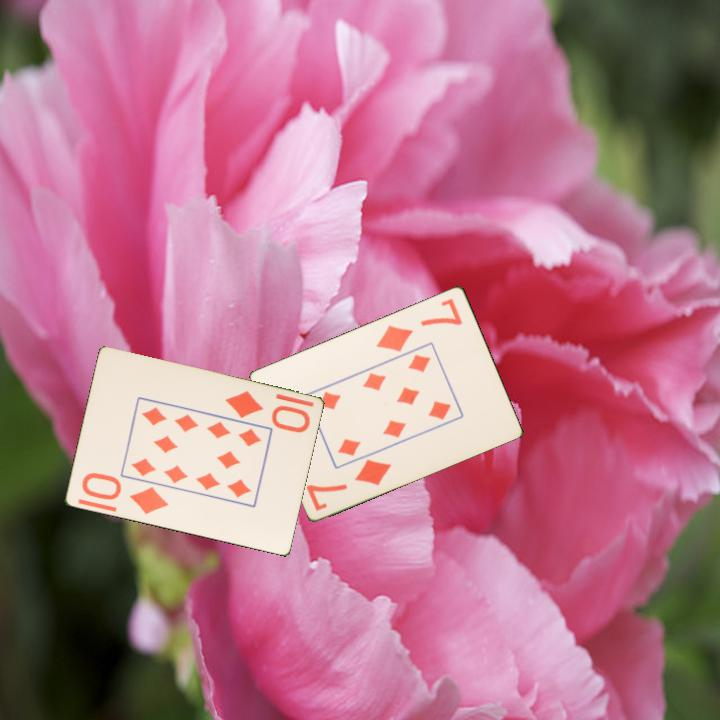10d: (78, 469, 171, 518), (221, 387, 313, 435)
7d: (373, 294, 466, 354), (302, 455, 394, 513)
